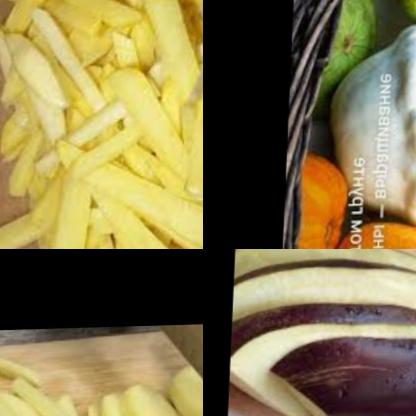eggplant: (229, 249, 416, 416)
potato: (0, 0, 203, 249), (0, 353, 130, 416), (84, 375, 203, 416), (161, 342, 203, 416)
squash-patisson: (334, 24, 416, 229), (307, 0, 387, 108), (283, 147, 352, 249)
